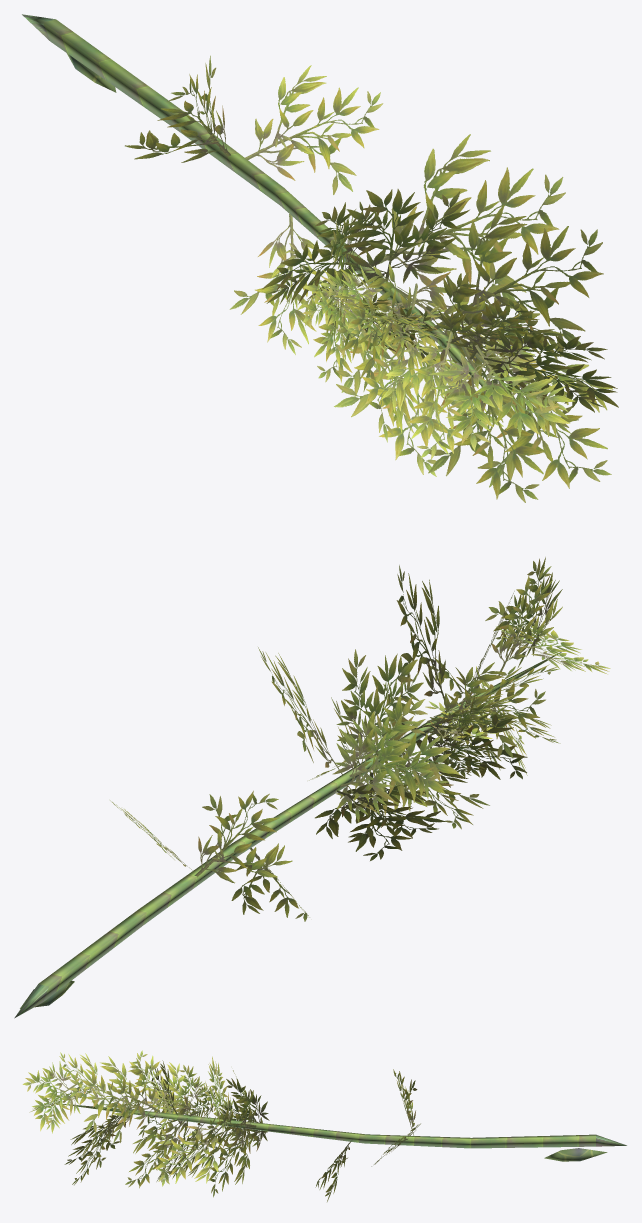
3 renders of one model, top to bottom at view 1: azimuth 30°, elevation 25°; view 2: azimuth 150°, elevation 25°; view 3: azimuth 270°, elevation 25°, orthographic. The views are drawn at different scales.
Parts seen in each view (by area): view 1: "Editable Poly"; view 2: "Editable Poly"; view 3: "Editable Poly".
Part boxes in pixels (x1,y1,x2,y2): "Editable Poly": (22,14,618,502); "Editable Poly": (14,557,610,1018); "Editable Poly": (22,1050,626,1201).
Size of the model in its own units: 5.52 by 5.05 by 18.76.
